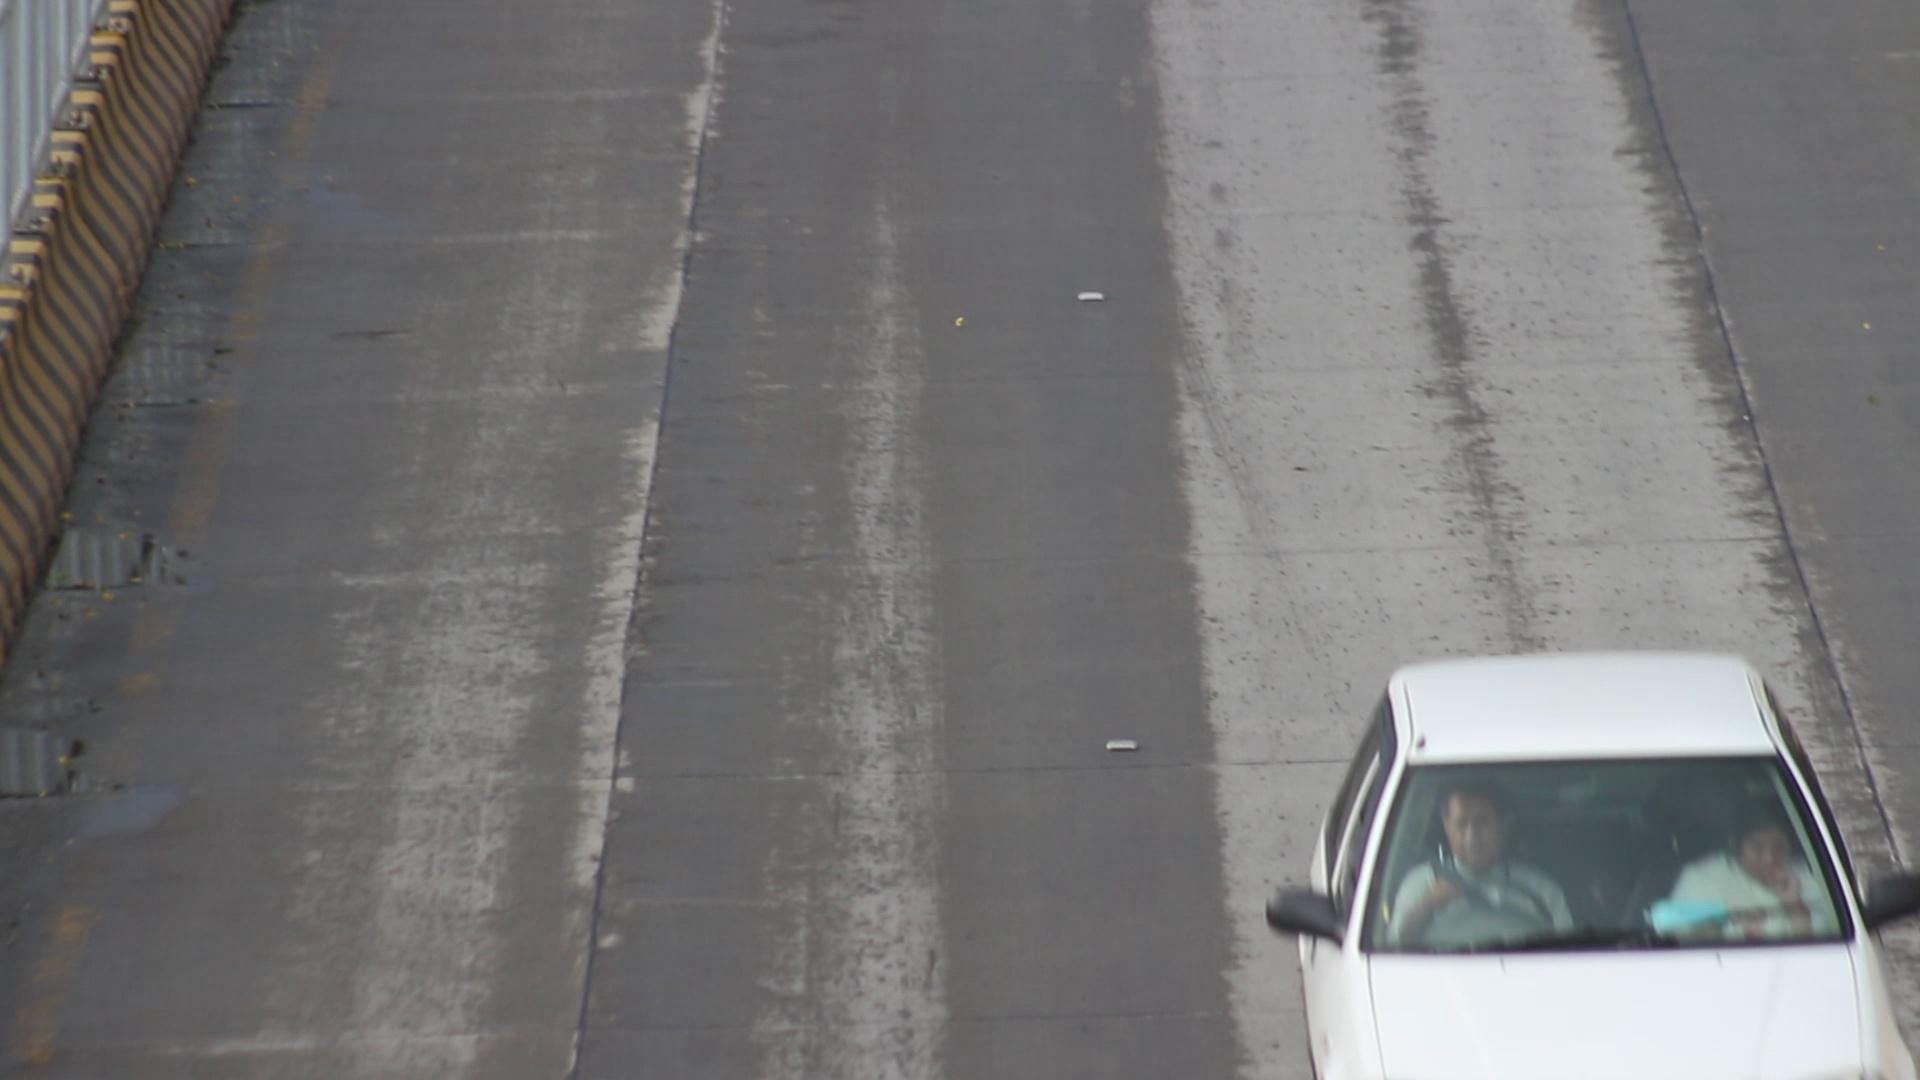windshield: (1350, 727, 1863, 967)
